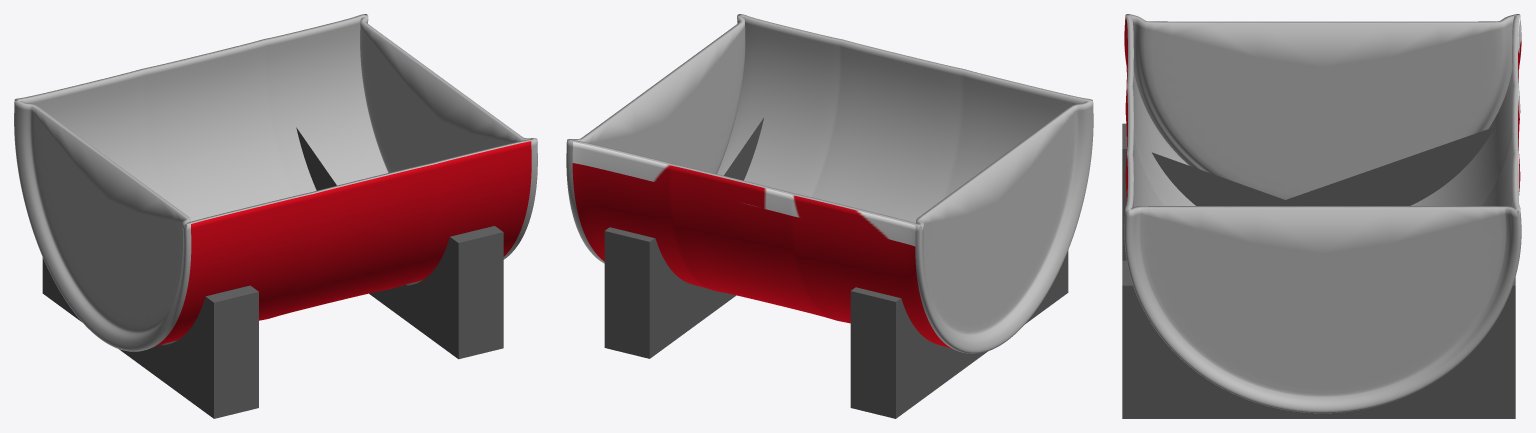
The model's file is BurnBarrel.fbx.
The picture shows the model from 3 angles, left to right: view 1: azimuth 30°, elevation 25°; view 2: azimuth 150°, elevation 25°; view 3: azimuth 270°, elevation 25°; orthographic projection. The views are drawn at different scales.
Visible parts, largest first — view 1: Cylinder; view 2: Cylinder; view 3: Cylinder.
Boxes of the visible parts, x1,y1,x2,y2 form: Cylinder: (14,14,537,418); Cylinder: (566,14,1093,418); Cylinder: (1122,14,1521,418).
Bounding box in the file's own units: 203 × 238 × 128.
3 materials, 1 textured.
